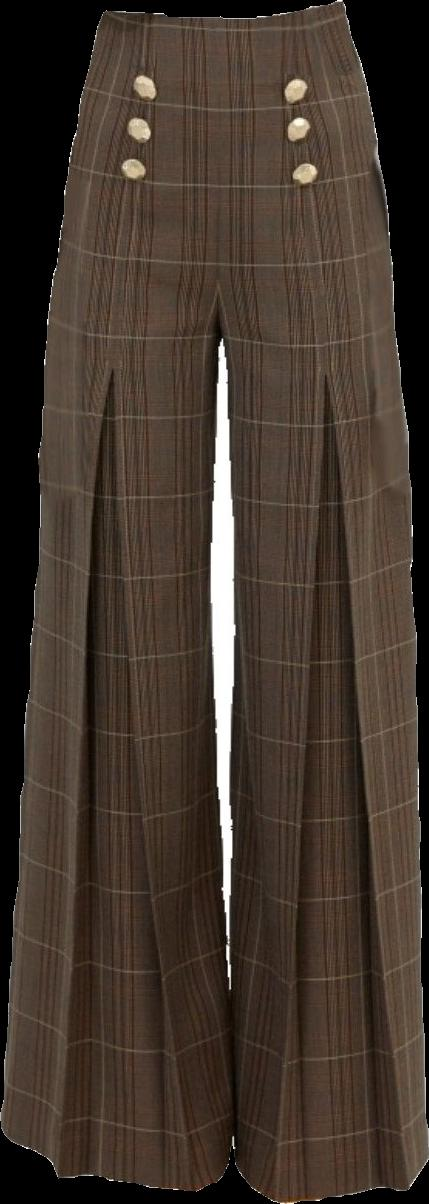Hemline: (0, 1119, 242, 1194), (231, 1153, 428, 1202)
Pantleg: (0, 11, 235, 1191), (218, 2, 428, 1200)
Waistline: (103, 0, 345, 29)
